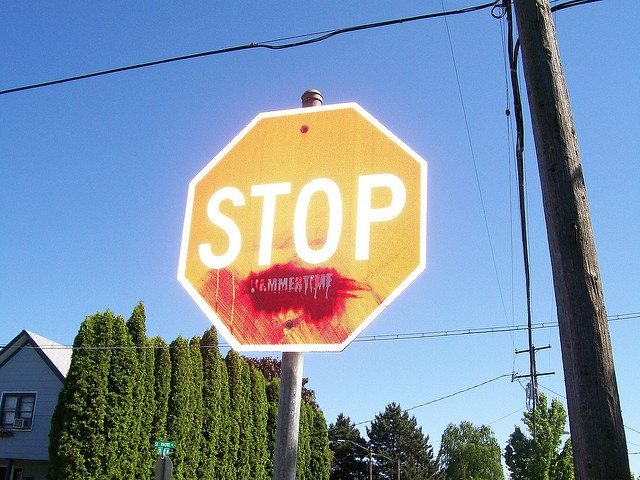stop sign: (178, 102, 612, 458)
